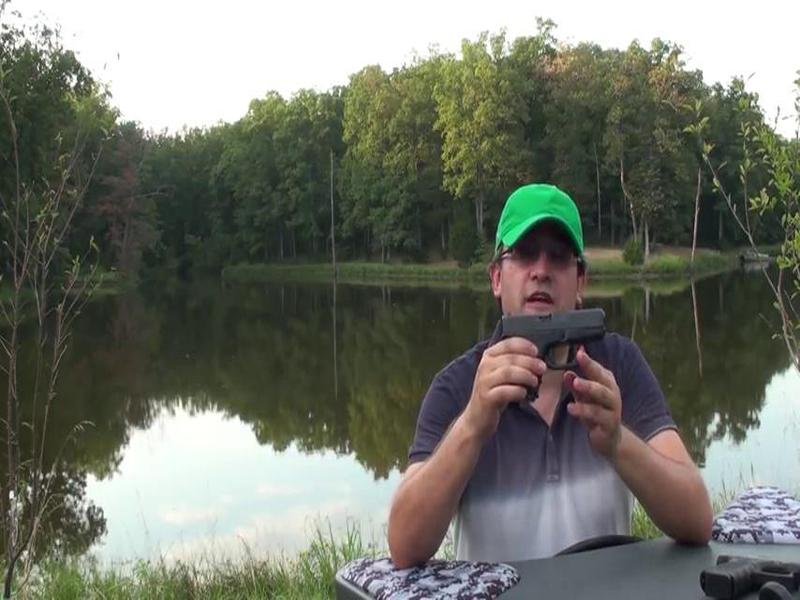Pistola: (473, 289, 631, 411)
